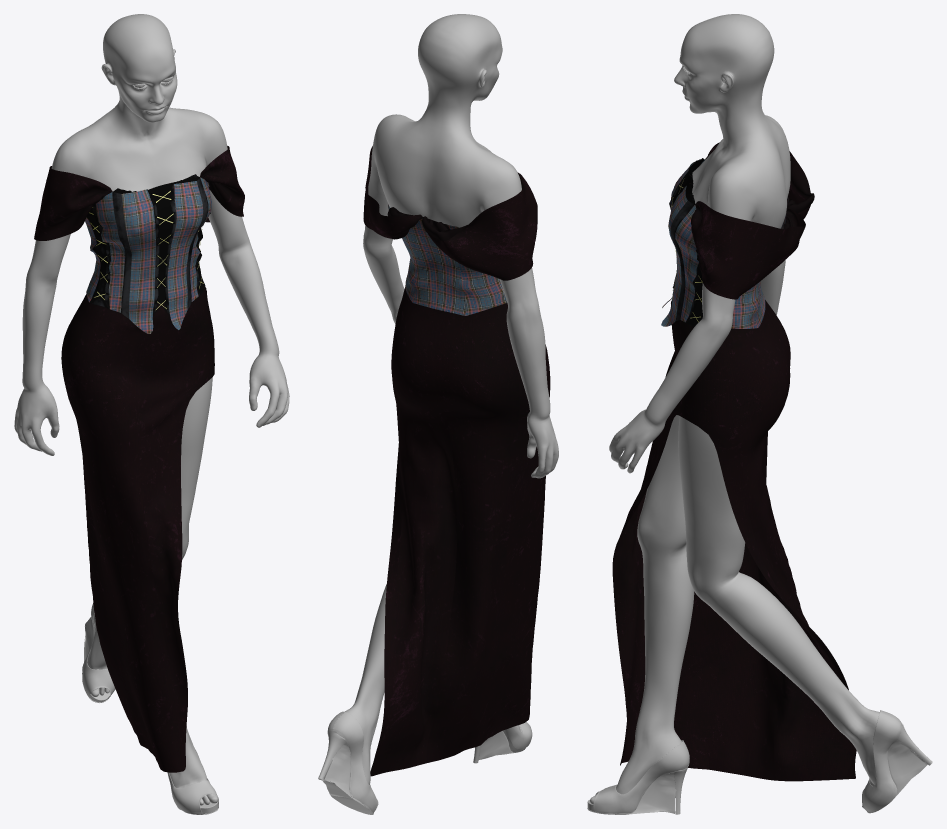
The picture shows the model from 3 angles, left to right: view 1: azimuth 30°, elevation 25°; view 2: azimuth 150°, elevation 25°; view 3: azimuth 270°, elevation 25°; orthographic projection. The views are drawn at different scales.
Parts seen in each view (by area): view 1: dress_animation:Anna_rig_04_dress_animation:body, polySurface134, polySurface135, polySurface14, polySurface139, polySurface15, polySurface137, polySurface2, polySurface138, polySurface53, dress_animation:shoes_l, dress_animation:shoes_r (+6 smaller); view 2: dress_animation:Anna_rig_04_dress_animation:body, polySurface137, polySurface136, polySurface134, polySurface139, dress_animation:shoes_l, polySurface135, polySurface7, polySurface4, polySurface138, polySurface6, dress_animation:shoes_r (+1 smaller); view 3: dress_animation:Anna_rig_04_dress_animation:body, polySurface136, polySurface135, polySurface137, polySurface134, polySurface138, dress_animation:shoes_r, dress_animation:shoes_l, polySurface3, polySurface139, polySurface15, polySurface5 (+1 smaller).
Boxes of the visible parts, bbox=[...] form: dress_animation:Anna_rig_04_dress_animation:body: bbox=[14, 14, 289, 805]; polySurface134: bbox=[61, 294, 183, 772]; polySurface135: bbox=[138, 287, 214, 770]; polySurface14: bbox=[121, 189, 155, 333]; polySurface139: bbox=[34, 166, 112, 240]; polySurface15: bbox=[167, 181, 203, 329]; polySurface137: bbox=[61, 301, 140, 744]; polySurface2: bbox=[96, 192, 124, 312]; polySurface138: bbox=[200, 146, 244, 222]; polySurface53: bbox=[113, 174, 199, 303]; dress_animation:shoes_l: bbox=[82, 603, 115, 702]; dress_animation:shoes_r: bbox=[167, 772, 218, 814]; dress_animation:Anna_rig_04_dress_animation:body: bbox=[345, 14, 558, 784]; polySurface137: bbox=[426, 304, 519, 763]; polySurface136: bbox=[370, 287, 457, 776]; polySurface134: bbox=[481, 303, 550, 744]; polySurface139: bbox=[422, 172, 537, 280]; dress_animation:shoes_l: bbox=[318, 711, 378, 814]; polySurface135: bbox=[371, 443, 401, 769]; polySurface7: bbox=[407, 218, 438, 309]; polySurface4: bbox=[447, 224, 507, 315]; polySurface138: bbox=[363, 146, 422, 239]; polySurface6: bbox=[427, 233, 465, 315]; dress_animation:shoes_r: bbox=[473, 722, 532, 763]; dress_animation:Anna_rig_04_dress_animation:body: bbox=[590, 14, 879, 804]; polySurface136: bbox=[721, 313, 855, 781]; polySurface135: bbox=[612, 300, 856, 771]; polySurface137: bbox=[708, 300, 790, 780]; polySurface134: bbox=[622, 351, 721, 769]; polySurface138: bbox=[691, 201, 805, 299]; dress_animation:shoes_r: bbox=[587, 740, 689, 814]; dress_animation:shoes_l: bbox=[862, 710, 932, 813]; polySurface3: bbox=[675, 205, 698, 322]; polySurface139: bbox=[705, 142, 814, 219]; polySurface15: bbox=[661, 186, 687, 326]; polySurface5: bbox=[731, 227, 783, 328].
Bounding box in the file's own units: 0.5304 × 1.8 × 0.7109.
Materials: 3 (2 with a texture image).
